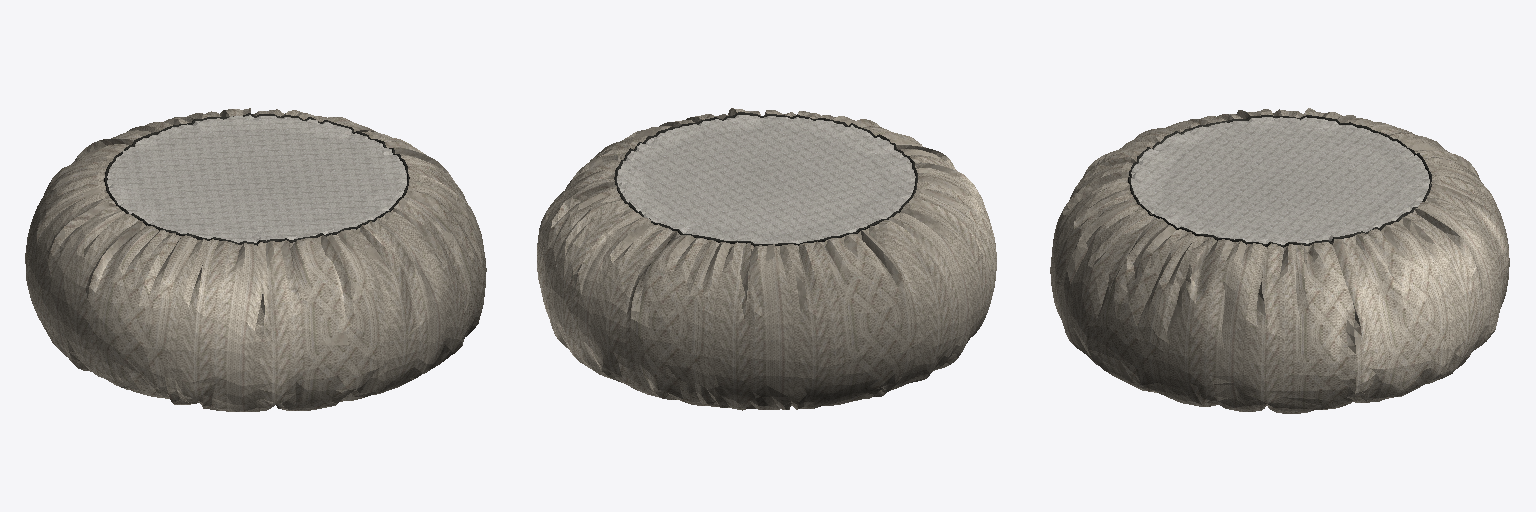
3 views of the same model, side by side, from view 1: azimuth 30°, elevation 25°; view 2: azimuth 150°, elevation 25°; view 3: azimuth 270°, elevation 25° (orthographic).
Parts seen in each view (by area): view 1: solid_002, solid_003, solid_001; view 2: solid_002, solid_003, solid_001; view 3: solid_002, solid_003, solid_001.
Part boxes in pixels (bbox=[...]): solid_002: bbox=[25, 108, 486, 411]; solid_003: bbox=[107, 115, 406, 242]; solid_001: bbox=[104, 113, 409, 245]; solid_002: bbox=[537, 108, 996, 410]; solid_003: bbox=[617, 115, 915, 243]; solid_001: bbox=[614, 112, 917, 246]; solid_002: bbox=[1050, 108, 1509, 413]; solid_003: bbox=[1131, 117, 1429, 244]; solid_001: bbox=[1128, 115, 1431, 247].
Size of the model in its own units: 2 by 0.7714 by 1.99.
Materials: 1 (1 with a texture image).